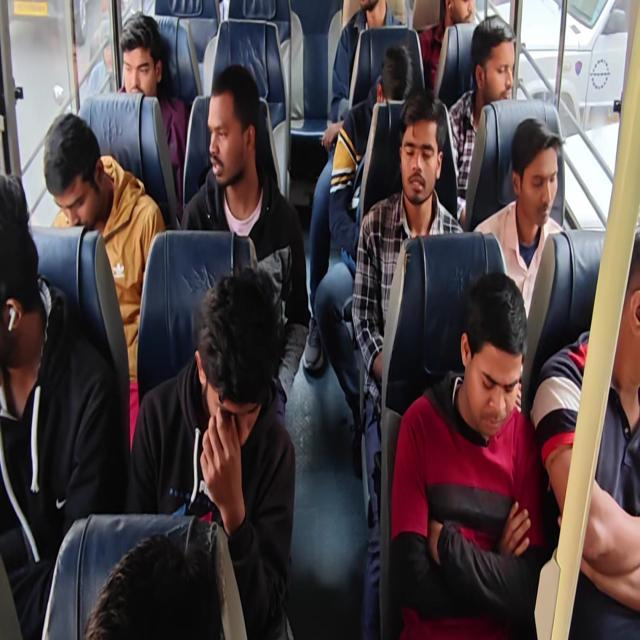person: (178, 267, 288, 463), (463, 274, 528, 440), (0, 192, 48, 395), (44, 111, 112, 236), (509, 118, 563, 244), (199, 77, 257, 191), (612, 224, 640, 418), (401, 106, 442, 205), (117, 20, 162, 100), (376, 31, 414, 123), (483, 41, 516, 112), (444, 0, 479, 35), (357, 0, 384, 18)
